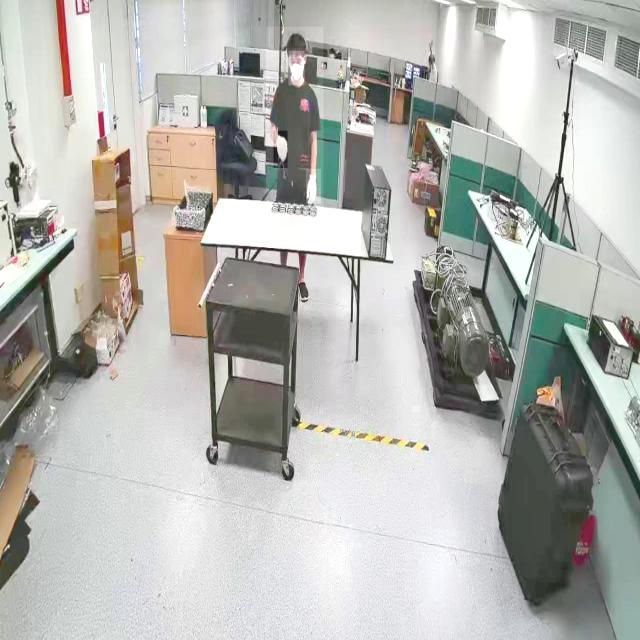face_mask: (289, 51, 305, 86)
hand_glove: (306, 169, 322, 204), (274, 131, 288, 169)
head_nohelmet: (286, 31, 306, 49), (428, 52, 435, 58)
person: (266, 27, 324, 209)
shoes: (295, 275, 311, 303)
